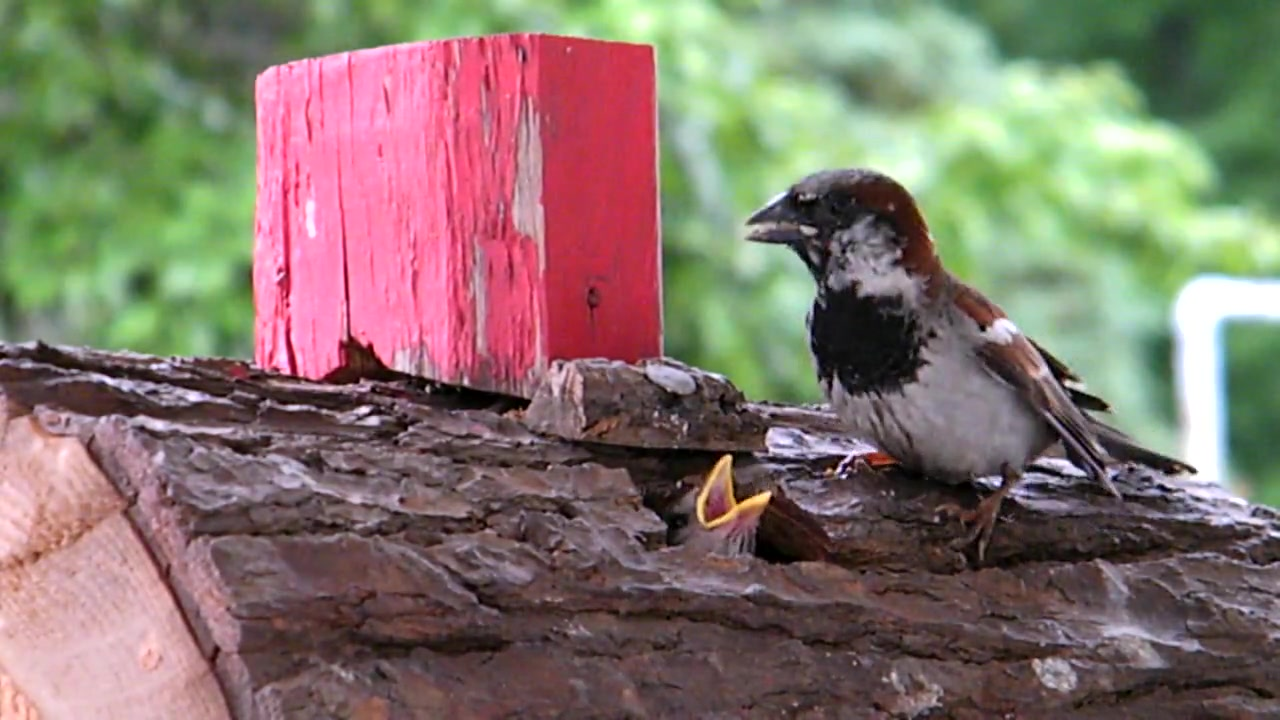bird: (744, 168, 1199, 564)
